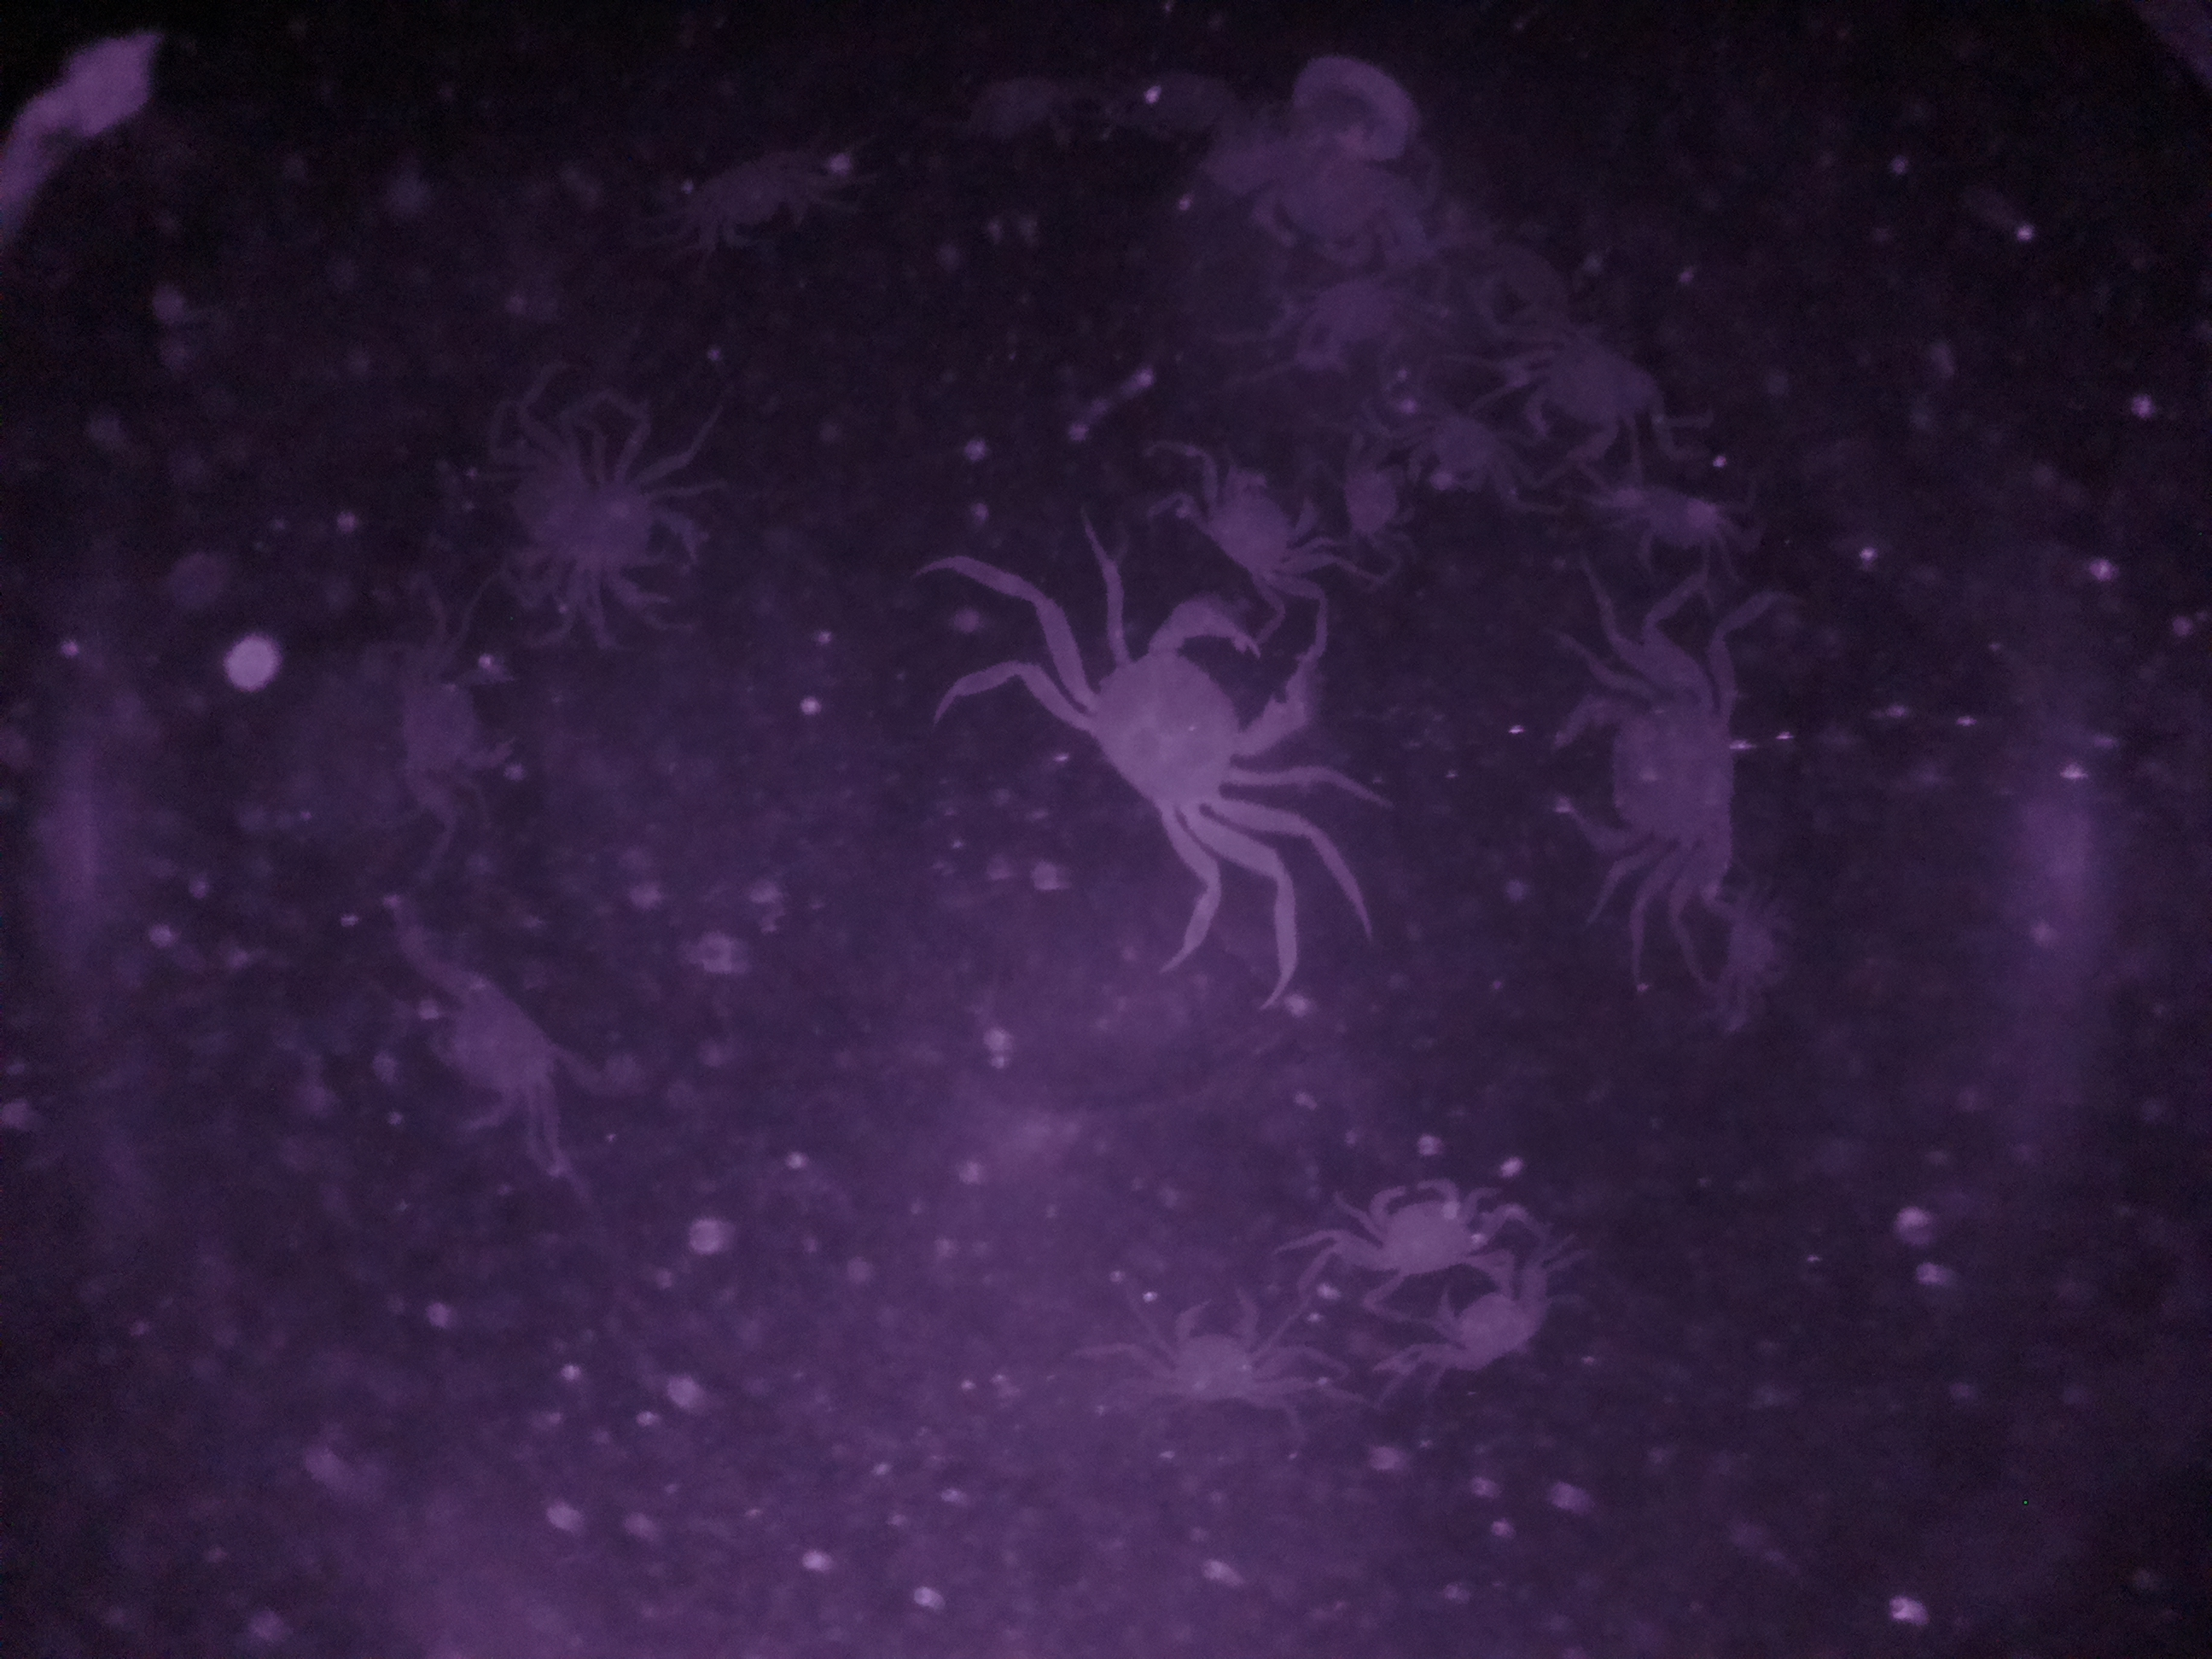Crab: (1055, 596, 1322, 871), (1533, 643, 1752, 908), (1480, 315, 1677, 471), (1183, 441, 1332, 603), (1130, 1279, 1289, 1429), (1329, 1162, 1507, 1290), (1395, 1249, 1559, 1387)
